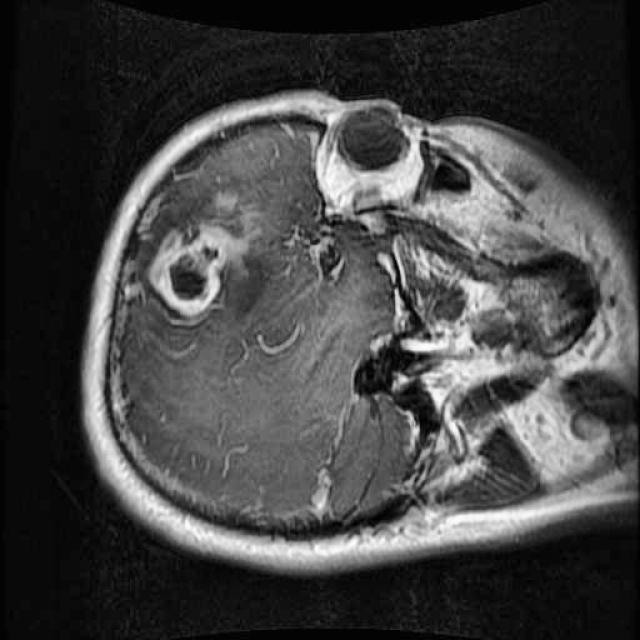Non-Tumor: (126, 191, 289, 348)
